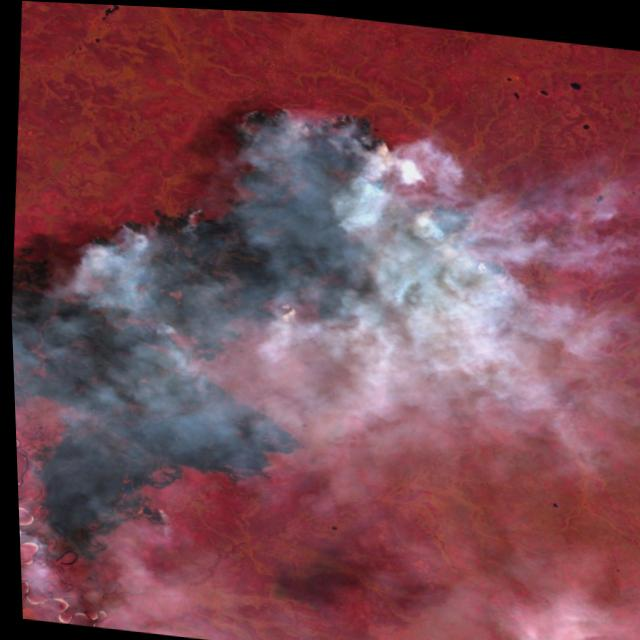fire: (54, 67, 552, 375)
